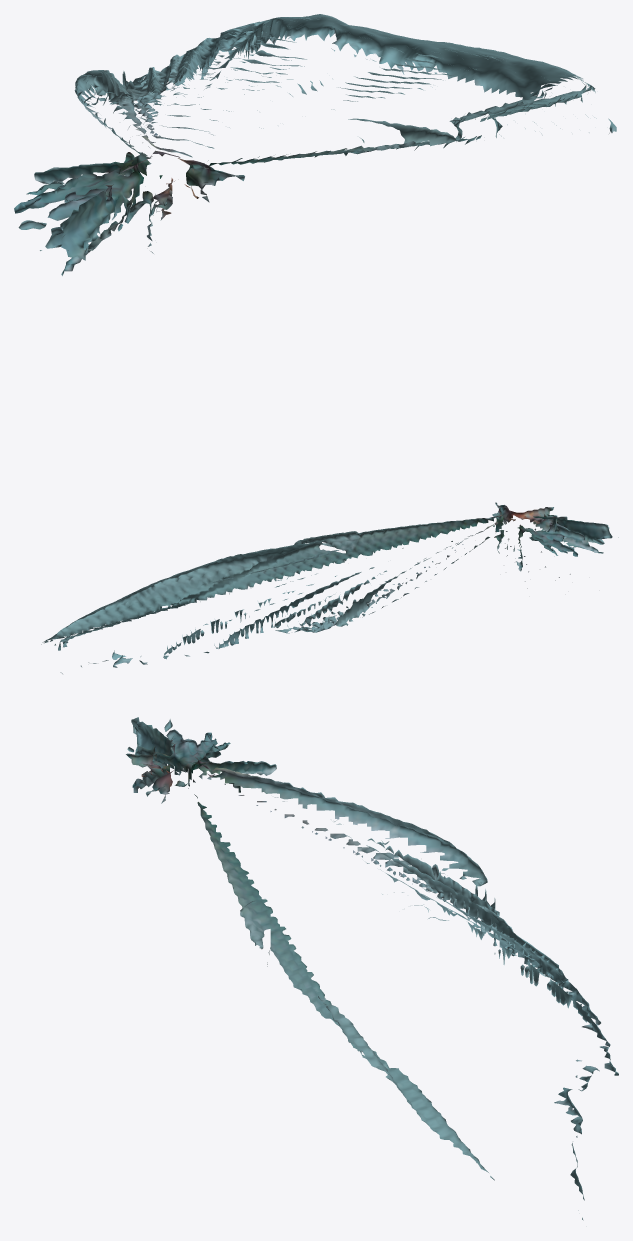
File: collider.glb
3 views of the same model, one above another, from view 1: azimuth 30°, elevation 25°; view 2: azimuth 150°, elevation 25°; view 3: azimuth 270°, elevation 25° (orthographic). The views are drawn at different scales.
Parts seen in each view (by area): view 1: world; view 2: world; view 3: world.
Part boxes in pixels (x1,y1,x2,y2): world: (14,14,616,275); world: (41,502,618,673); world: (126,717,618,1220).
Bounding box in the file's own units: 98.21 × 32.8 × 81.77.
